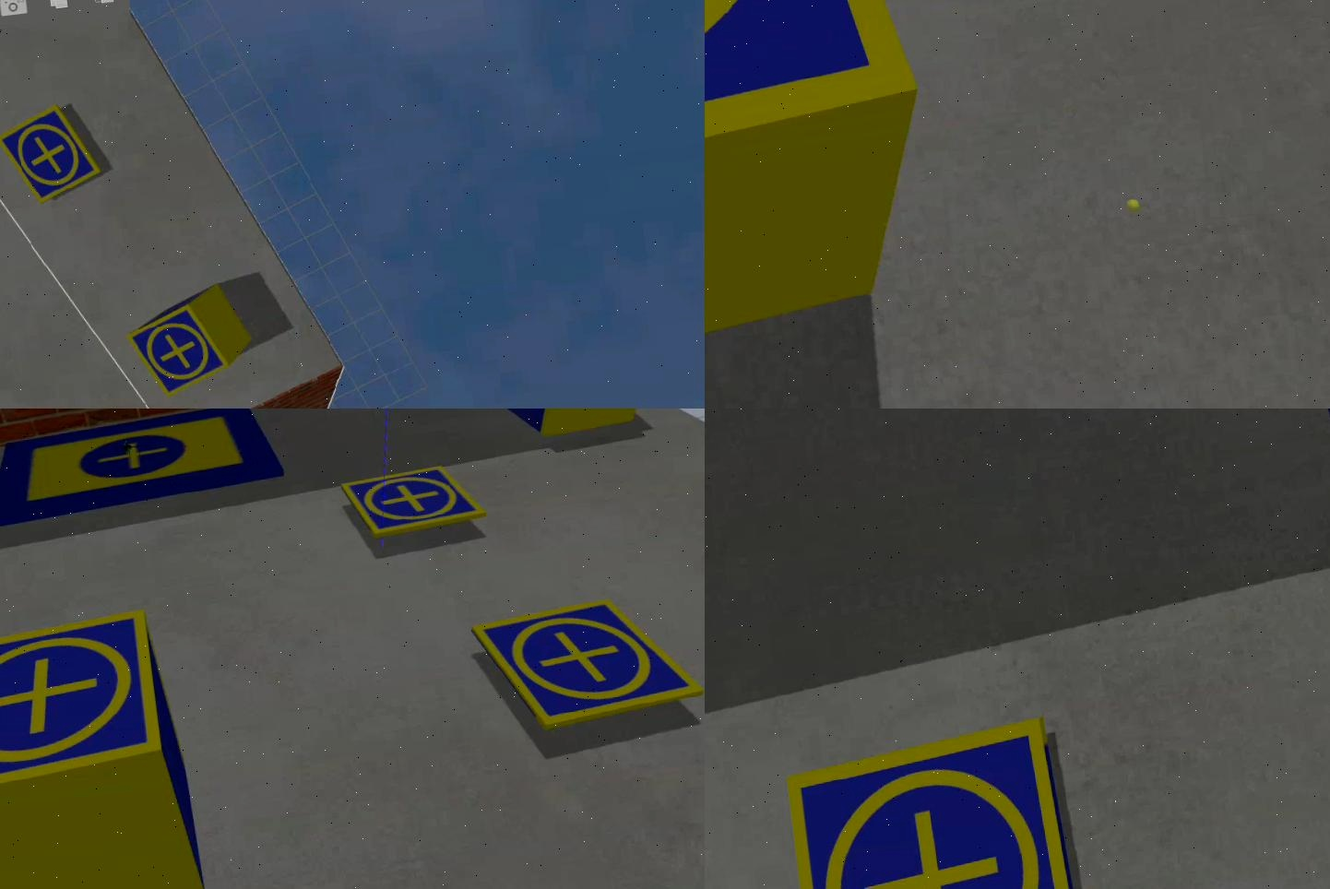large_base: (1, 409, 290, 528)
small_base: (705, 1, 932, 279), (775, 710, 1105, 889), (473, 591, 705, 735), (1, 606, 166, 806), (340, 462, 487, 541), (1, 102, 107, 207), (128, 301, 232, 400)
